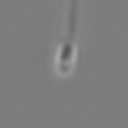normal: (61, 1, 79, 39)
